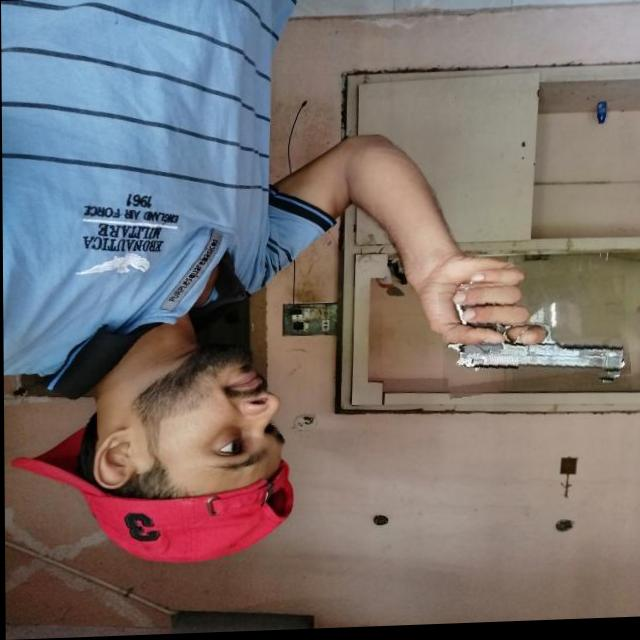handgun: (438, 274, 627, 398)
